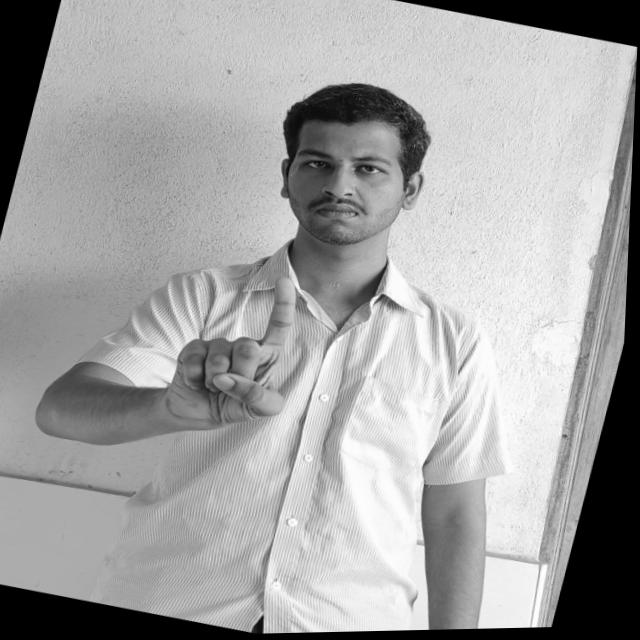Question: (164, 259, 322, 444)
